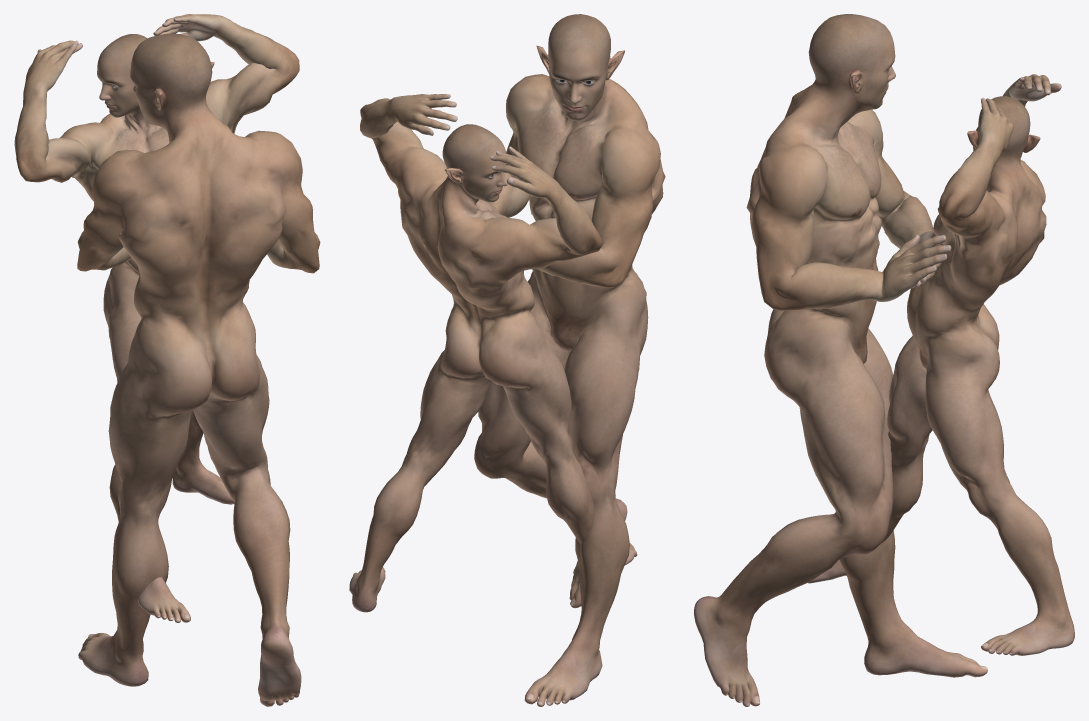
The model's file is stronk5.glb.
3 views of the same model, side by side, from view 1: azimuth 30°, elevation 25°; view 2: azimuth 150°, elevation 25°; view 3: azimuth 270°, elevation 25° (orthographic). The views are drawn at different scales.
Parts seen in each view (by area): view 1: Genesis8Male.Shape.002, Genesis8Male.Shape.003; view 2: Genesis8Male.Shape.002, Genesis8Male.Shape.003; view 3: Genesis8Male.Shape.002, Genesis8Male.Shape.003.
Boxes of the visible parts, left/top/right/bottom form: Genesis8Male.Shape.002: left=77, top=33, right=320, bottom=706; Genesis8Male.Shape.003: left=14, top=14, right=299, bottom=622; Genesis8Male.Shape.002: left=474, top=14, right=665, bottom=706; Genesis8Male.Shape.003: left=349, top=94, right=637, bottom=612; Genesis8Male.Shape.002: left=694, top=14, right=987, bottom=706; Genesis8Male.Shape.003: left=808, top=74, right=1074, bottom=655.
Bounding box in the file's own units: 0.9515 × 2.26 × 1.16.
15 materials, 14 textured.
